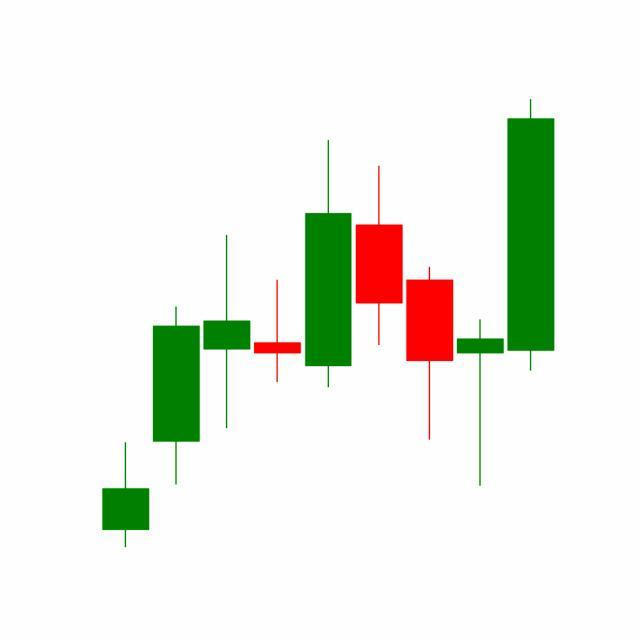Hikkake Pattern: (302, 99, 555, 491)
